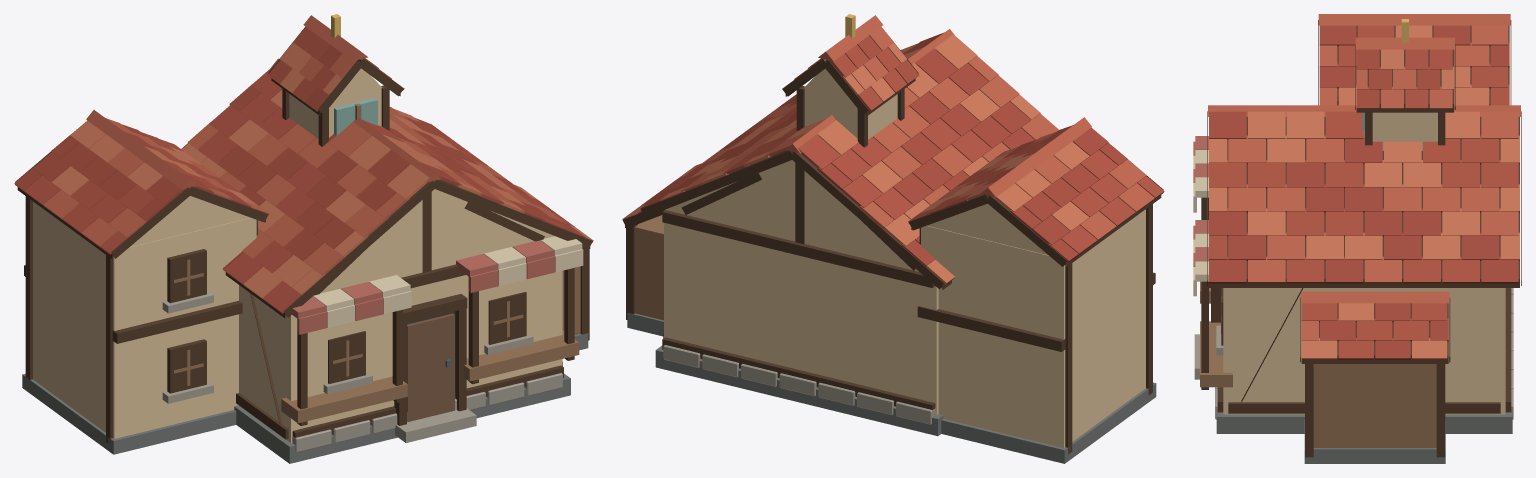
Rendered from ENV_Civic_market_LOD0.glb.
3 views of the same model, side by side, from view 1: azimuth 30°, elevation 25°; view 2: azimuth 150°, elevation 25°; view 3: azimuth 270°, elevation 25° (orthographic).
Visible parts, largest first — view 1: ENV_Civic_market_LOD0_roof_roofTiles, ENV_Civic_market_LOD0_stage7_upper_wing_plaster, ENV_Civic_market_LOD0_shell_plaster, ENV_Civic_market_LOD0_stage7_upper_wing_roofTiles, ENV_Civic_market_LOD0_shell_woodDark, ENV_Civic_market_LOD0_stage7_upper_wing_woodDark, ENV_Civic_market_LOD0_market_stalls_woodLight, ENV_Civic_market_LOD0_stage8_roof_lantern_roofTiles, ENV_Civic_market_LOD0_shell_wood, ENV_Civic_market_LOD0_market_stalls_red, ENV_Civic_market_LOD0_market_stalls_plasterIvory, ENV_Civic_market_LOD0_roof_woodDark (+11 smaller); view 2: ENV_Civic_market_LOD0_shell_plaster, ENV_Civic_market_LOD0_stage7_upper_wing_plaster, ENV_Civic_market_LOD0_roof_roofTiles, ENV_Civic_market_LOD0_stage7_upper_wing_roofTiles, ENV_Civic_market_LOD0_shell_woodDark, ENV_Civic_market_LOD0_stage7_upper_wing_woodDark, ENV_Civic_market_LOD0_stage8_roof_lantern_roofTiles, ENV_Civic_market_LOD0_foundation_stone, ENV_Civic_market_LOD0_roof_woodDark, ENV_Civic_market_LOD0_stage7_upper_wing_stoneDark, ENV_Civic_market_LOD0_foundation_stoneDark, ENV_Civic_market_LOD0_stage8_roof_lantern_plaster (+4 smaller); view 3: ENV_Civic_market_LOD0_roof_roofTiles, ENV_Civic_market_LOD0_shell_plaster, ENV_Civic_market_LOD0_stage7_upper_wing_roofTiles, ENV_Civic_market_LOD0_stage5_shed_woodLight, ENV_Civic_market_LOD0_stage5_shed_roofTiles, ENV_Civic_market_LOD0_stage8_roof_lantern_roofTiles, ENV_Civic_market_LOD0_roof_woodDark, ENV_Civic_market_LOD0_shell_woodDark, ENV_Civic_market_LOD0_foundation_stoneDark, ENV_Civic_market_LOD0_stage5_shed_woodDark, ENV_Civic_market_LOD0_stage5_shed_stoneDark, ENV_Civic_market_LOD0_stage8_roof_lantern_plaster (+8 smaller).
Part boxes in pixels (x1,y1,x2,y2): ENV_Civic_market_LOD0_roof_roofTiles: (181,58,586,313); ENV_Civic_market_LOD0_stage7_upper_wing_plaster: (33,196,256,438); ENV_Civic_market_LOD0_shell_plaster: (239,189,562,442); ENV_Civic_market_LOD0_stage7_upper_wing_roofTiles: (14,110,268,254); ENV_Civic_market_LOD0_shell_woodDark: (236,192,563,439); ENV_Civic_market_LOD0_stage7_upper_wing_woodDark: (15,122,268,443); ENV_Civic_market_LOD0_market_stalls_woodLight: (281,330,579,423); ENV_Civic_market_LOD0_stage8_roof_lantern_roofTiles: (268,15,404,111); ENV_Civic_market_LOD0_shell_wood: (407,313,454,421); ENV_Civic_market_LOD0_market_stalls_red: (292,240,554,334); ENV_Civic_market_LOD0_market_stalls_plasterIvory: (313,236,583,327); ENV_Civic_market_LOD0_roof_woodDark: (181,117,585,318); ENV_Civic_market_LOD0_shell_plaster: (664,160,938,415); ENV_Civic_market_LOD0_stage7_upper_wing_plaster: (921,203,1145,447); ENV_Civic_market_LOD0_roof_roofTiles: (640,29,1058,284); ENV_Civic_market_LOD0_stage7_upper_wing_roofTiles: (908,117,1164,262); ENV_Civic_market_LOD0_shell_woodDark: (662,163,935,410); ENV_Civic_market_LOD0_stage7_upper_wing_woodDark: (909,159,1163,454); ENV_Civic_market_LOD0_stage8_roof_lantern_roofTiles: (782,15,919,111); ENV_Civic_market_LOD0_foundation_stone: (663,345,935,424); ENV_Civic_market_LOD0_roof_woodDark: (640,150,951,289); ENV_Civic_market_LOD0_stage7_upper_wing_stoneDark: (941,382,1156,463); ENV_Civic_market_LOD0_foundation_stoneDark: (655,345,943,436); ENV_Civic_market_LOD0_stage8_roof_lantern_plaster: (804,68,897,139); ENV_Civic_market_LOD0_roof_roofTiles: (1208,105,1520,283); ENV_Civic_market_LOD0_shell_plaster: (1223,288,1505,414); ENV_Civic_market_LOD0_stage7_upper_wing_roofTiles: (1318,14,1510,105); ENV_Civic_market_LOD0_stage5_shed_woodLight: (1313,364,1436,447); ENV_Civic_market_LOD0_stage5_shed_roofTiles: (1301,291,1449,359); ENV_Civic_market_LOD0_stage8_roof_lantern_roofTiles: (1355,37,1454,108); ENV_Civic_market_LOD0_roof_woodDark: (1207,111,1521,287); ENV_Civic_market_LOD0_shell_woodDark: (1211,288,1511,413); ENV_Civic_market_LOD0_foundation_stoneDark: (1216,413,1512,433); ENV_Civic_market_LOD0_stage5_shed_woodDark: (1300,297,1450,457); ENV_Civic_market_LOD0_stage5_shed_stoneDark: (1304,419,1445,463); ENV_Civic_market_LOD0_stage8_roof_lantern_plaster: (1372,112,1437,150).
Size of the model in its own units: 8.76 by 6.07 by 5.24.
